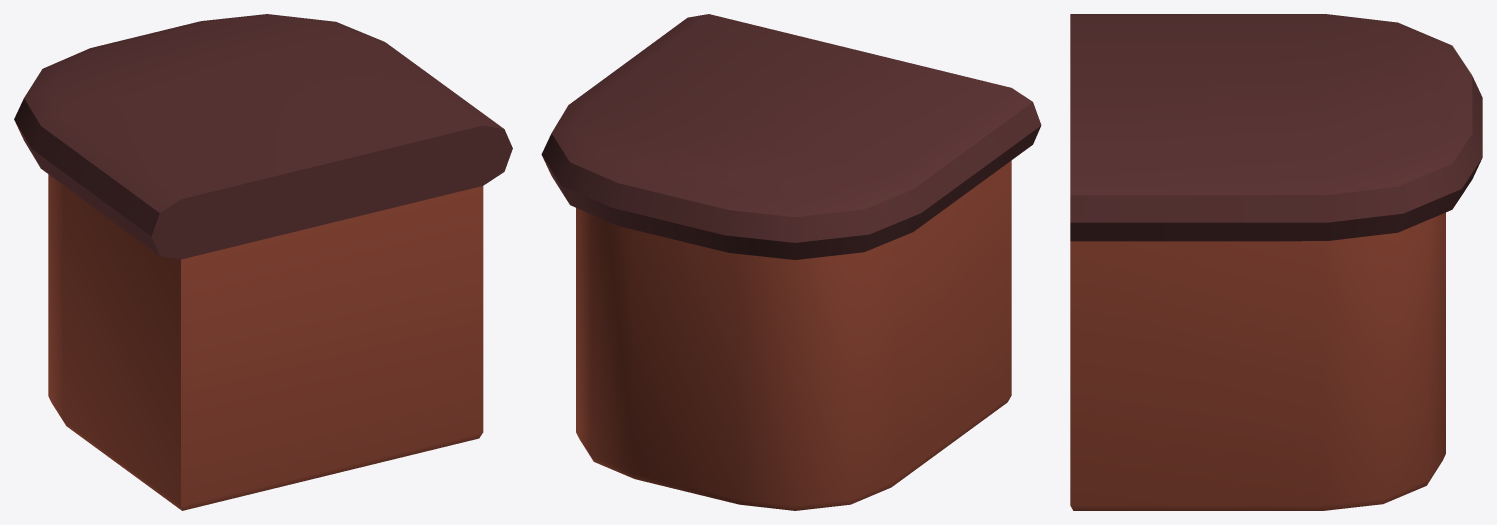
The model's file is end counter with color.fbx.
3 views of the same model, side by side, from view 1: azimuth 30°, elevation 25°; view 2: azimuth 150°, elevation 25°; view 3: azimuth 270°, elevation 25° (orthographic). The views are drawn at different scales.
Parts seen in each view (by area): view 1: Cube; view 2: Cube; view 3: Cube.
Part boxes in pixels (x1,y1,x2,y2): Cube: (14, 14, 512, 510); Cube: (541, 14, 1041, 510); Cube: (1070, 14, 1482, 510).
Size of the model in its own units: 120 by 100 by 110.
